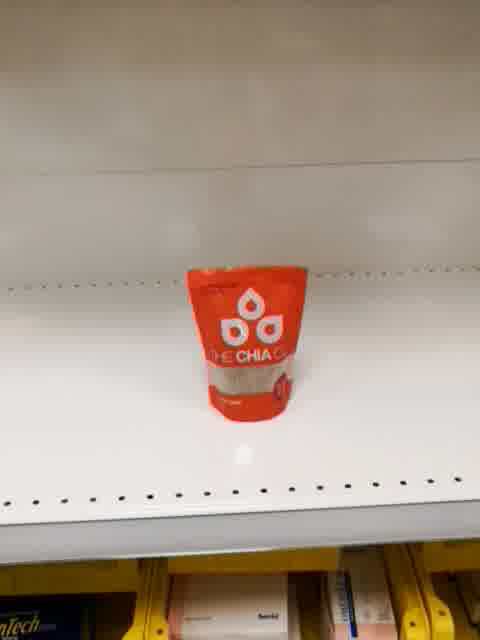whitechia: (185, 263, 312, 425)
